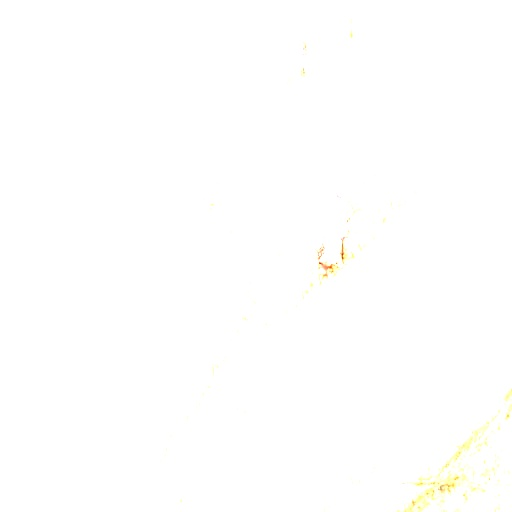Angular Leafspot: (129, 7, 511, 511)
